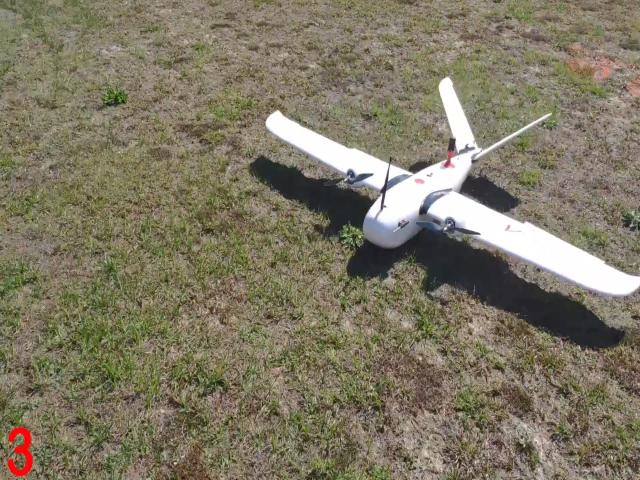plane: (267, 76, 637, 297)
